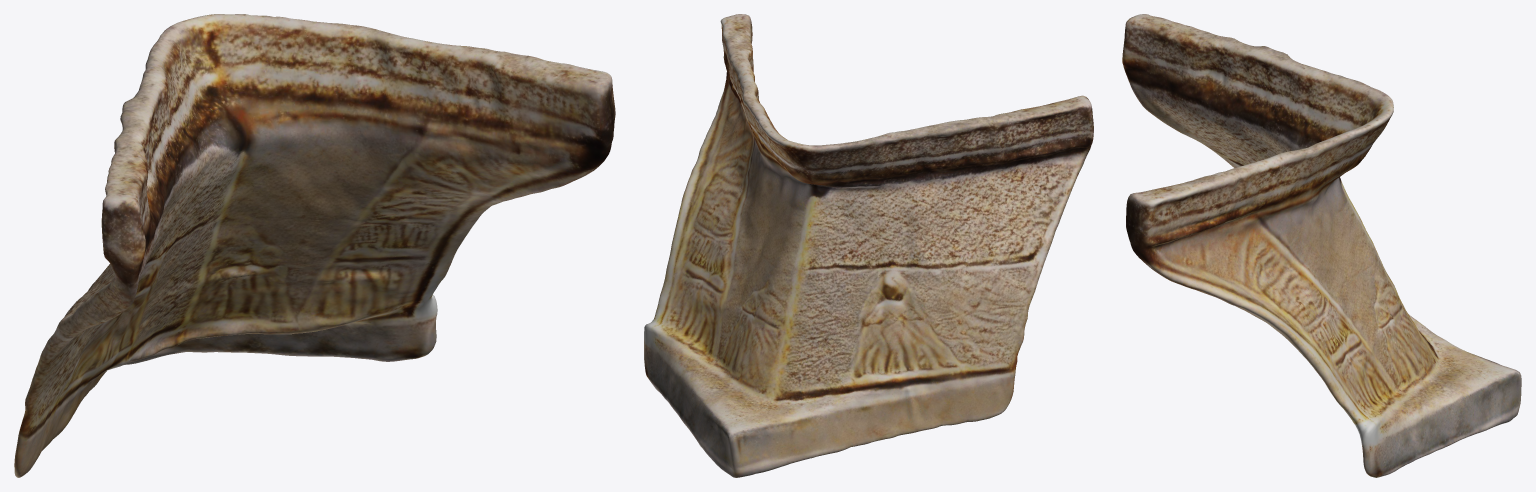
The model's file is f8a6f2b56ceb_A_slated_egyptian_c.fbx.
3 renders of one model, left to right at view 1: azimuth 30°, elevation 25°; view 2: azimuth 150°, elevation 25°; view 3: azimuth 270°, elevation 25°, orthographic. The views are drawn at different scales.
Parts seen in each view (by area): view 1: high_poly; view 2: high_poly; view 3: high_poly.
Boxes of the visible parts, bbox=[...] form: high_poly: bbox=[14, 14, 615, 477]; high_poly: bbox=[644, 14, 1093, 477]; high_poly: bbox=[1122, 14, 1521, 477].
Size of the model in its own units: 100 by 76.33 by 88.26.
